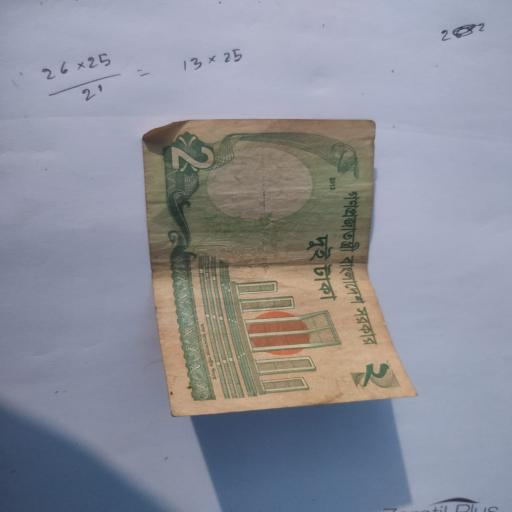2taka: (143, 119, 416, 416)
